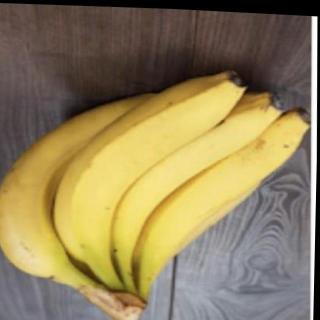banana: (50, 57, 254, 266), (0, 78, 186, 283), (91, 75, 288, 263), (129, 92, 317, 278)
